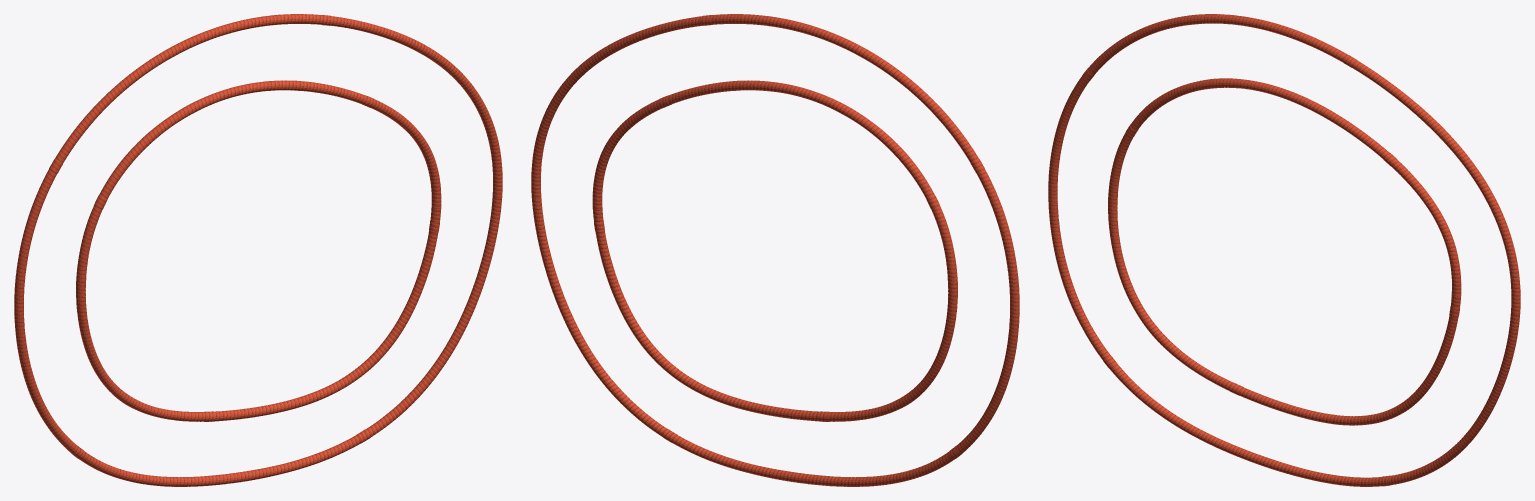
File: ducts.obj
3 renders of one model, left to right at view 1: azimuth 30°, elevation 25°; view 2: azimuth 150°, elevation 25°; view 3: azimuth 330°, elevation 25°, orthographic. The views are drawn at different scales.
Size of the model in its own units: 12.28 by 11.14 by 0.2277.
1 material, 1 textured.
